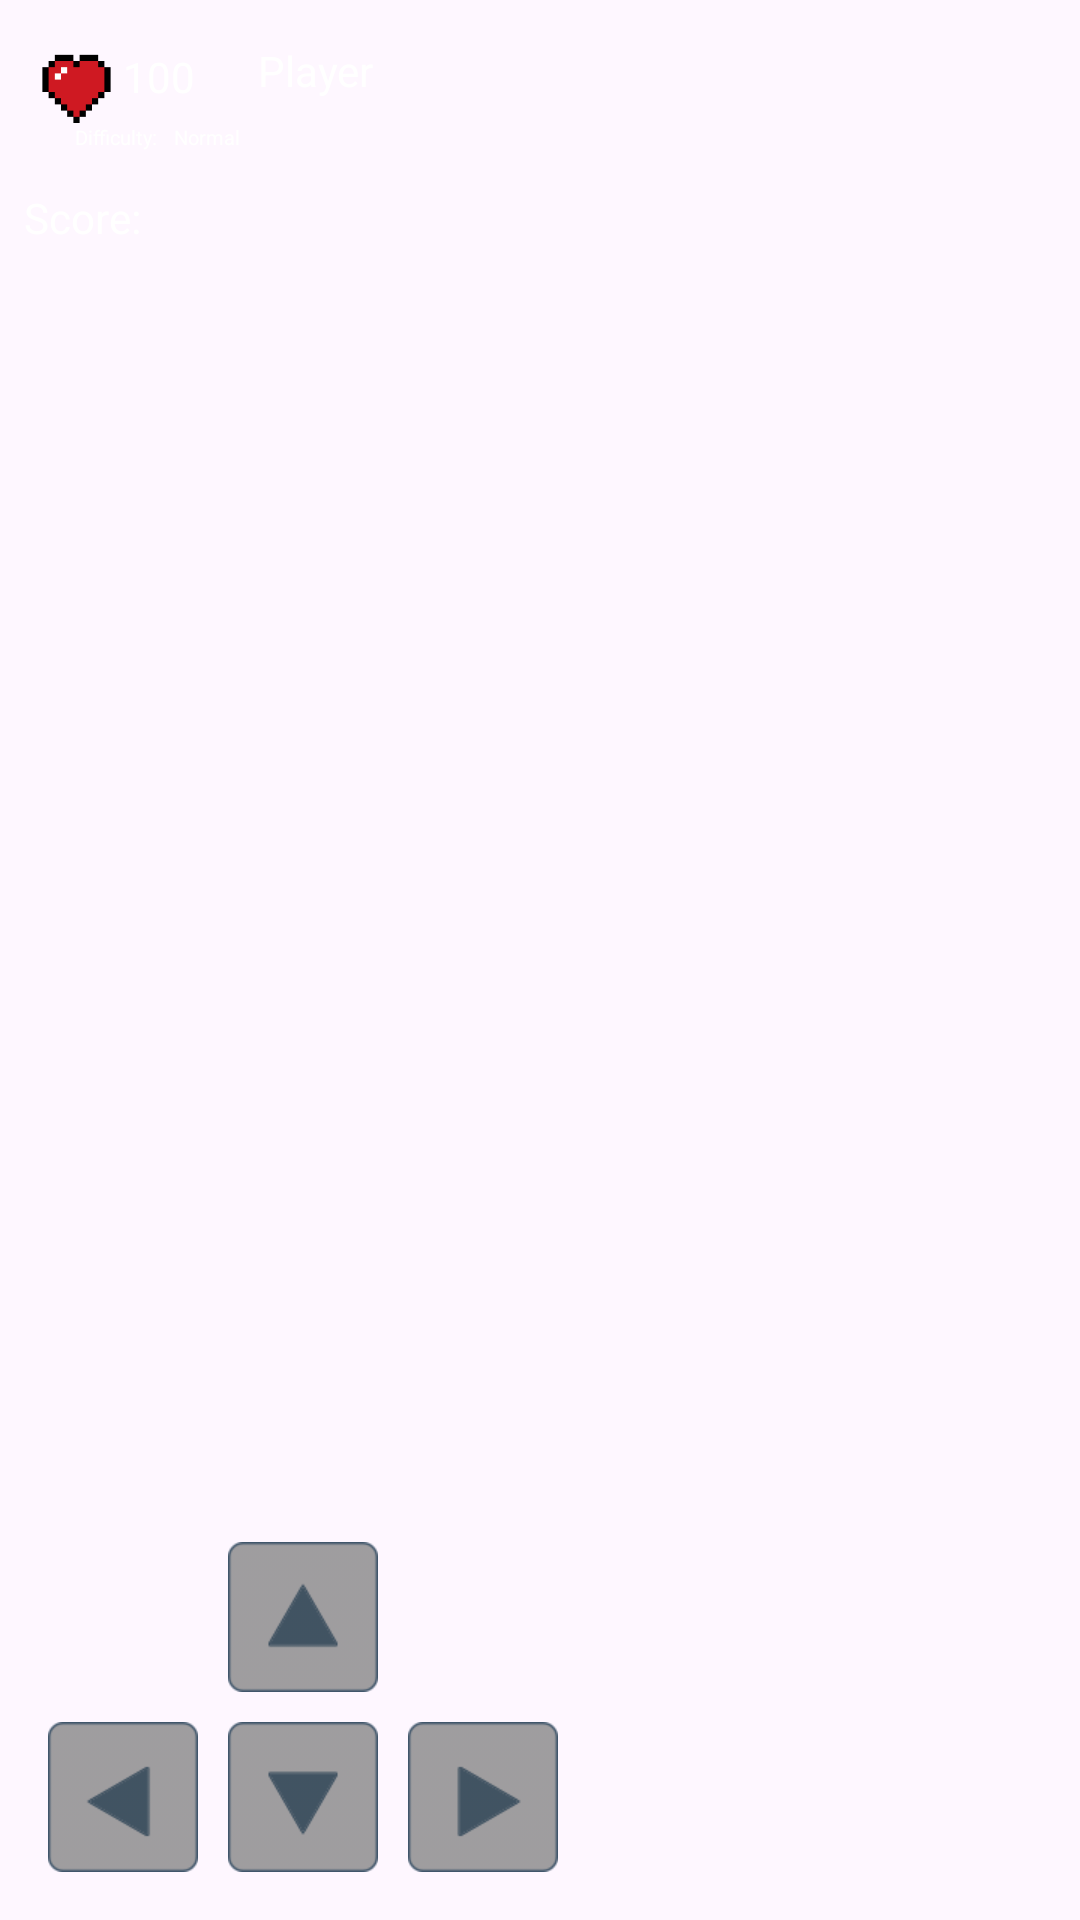

Icon click points for this 1080 x 1920 phone screenshot, format [x,y]:
down arrow: [303,1797]
health: [76,88]
left arrow: [123,1797]
right arrow: [483,1797]
up arrow: [303,1617]
